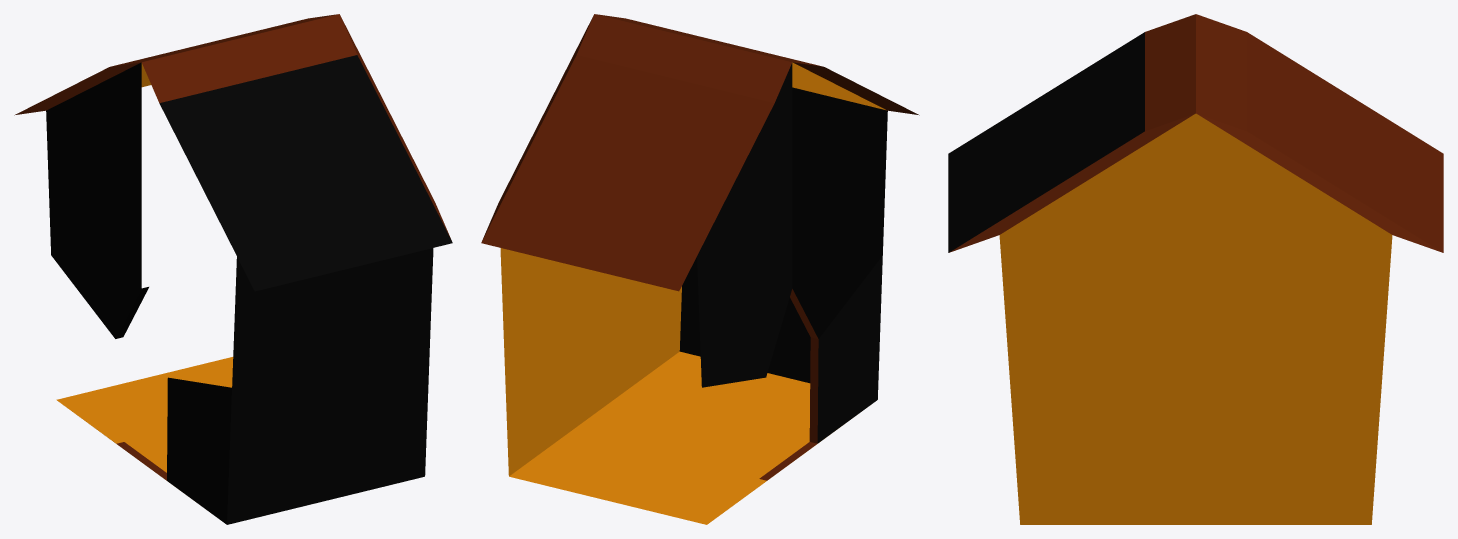
Rendered from casinha.fbx.
3 renders of one model, left to right at view 1: azimuth 30°, elevation 25°; view 2: azimuth 150°, elevation 25°; view 3: azimuth 270°, elevation 25°, orthographic. The views are drawn at different scales.
Parts seen in each view (by area): view 1: Cube, Cube.001; view 2: Cube, Cube.001; view 3: Cube, Cube.001.
Boxes of the visible parts, left/top/right/bottom form: Cube: left=46, top=62, right=433, bottom=524; Cube.001: left=14, top=14, right=452, bottom=291; Cube: left=500, top=63, right=887, bottom=524; Cube.001: left=481, top=14, right=919, bottom=291; Cube: left=999, top=113, right=1392, bottom=524; Cube.001: left=948, top=14, right=1443, bottom=252.
Size of the model in its own units: 219 by 408 by 445.
